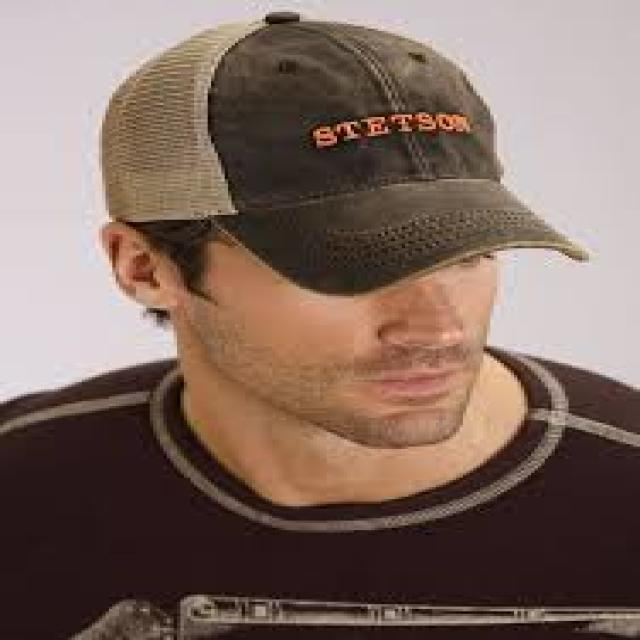cap: (80, 0, 617, 307)
